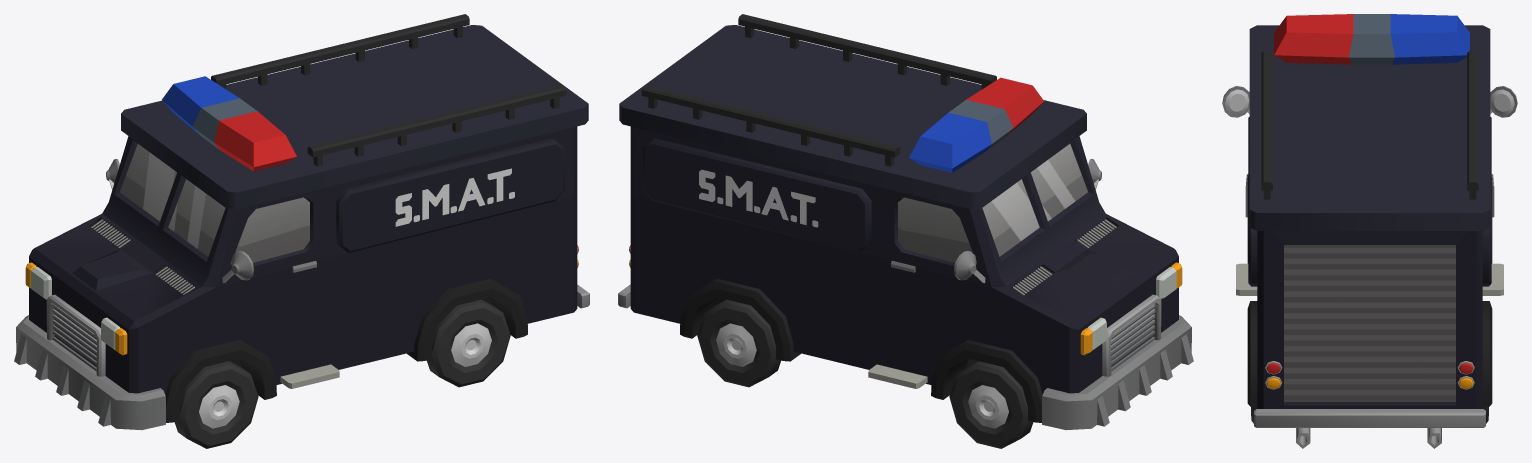
Rendered from SMAT_1.gltf.
3 renders of one model, left to right at view 1: azimuth 30°, elevation 25°; view 2: azimuth 150°, elevation 25°; view 3: azimuth 270°, elevation 25°, orthographic. The views are drawn at different scales.
Parts seen in each view (by area): view 1: SMAT_1, RL, FL; view 2: SMAT_1, RR, FR; view 3: SMAT_1.
Boxes of the visible parts, box(x1,y1,x2,y2) form: SMAT_1: box(14, 14, 589, 430); RL: box(426, 299, 510, 387); FL: box(174, 361, 258, 448); SMAT_1: box(618, 14, 1193, 430); RR: box(697, 299, 781, 387); FR: box(949, 361, 1033, 448); SMAT_1: box(1222, 14, 1517, 448).
Size of the model in its own units: 4.06 by 2.26 by 2.03.
5 materials, 5 textured.
